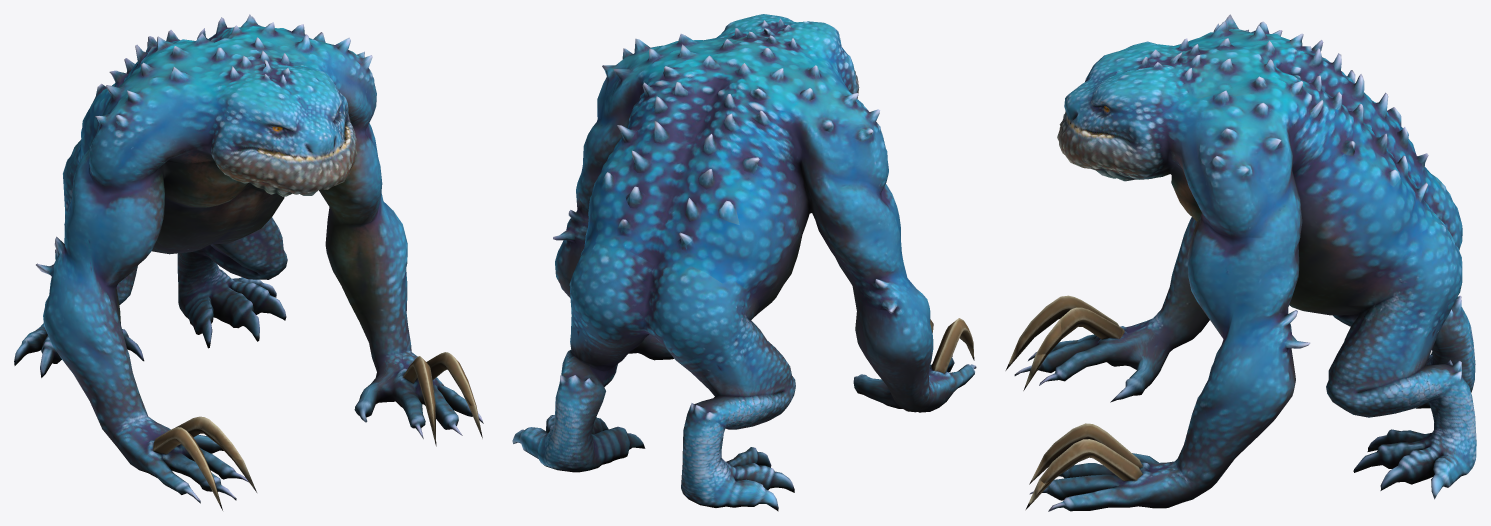
File: MZ4250 - Blue Slaad.glb
3 renders of one model, left to right at view 1: azimuth 30°, elevation 25°; view 2: azimuth 150°, elevation 25°; view 3: azimuth 270°, elevation 25°, orthographic. The views are drawn at different scales.
Visible parts, largest first — view 1: body_low.001, claw_low.001; view 2: body_low.001, claw_low.001; view 3: body_low.001, claw_low.001.
Part boxes in pixels (x1,y1,x2,y2): body_low.001: (14, 14, 483, 503); claw_low.001: (153, 352, 482, 510); body_low.001: (512, 14, 976, 511); claw_low.001: (930, 318, 974, 373); body_low.001: (1014, 14, 1476, 511); claw_low.001: (1005, 295, 1142, 510).
Bounding box in the file's own units: 5.57 × 5.5 × 6.05.
1 material, 1 textured.
